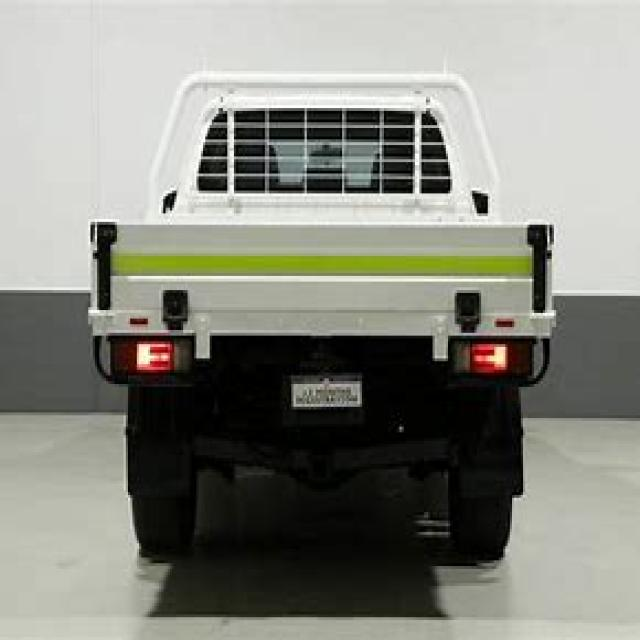light_vehicle: (77, 42, 574, 592)
